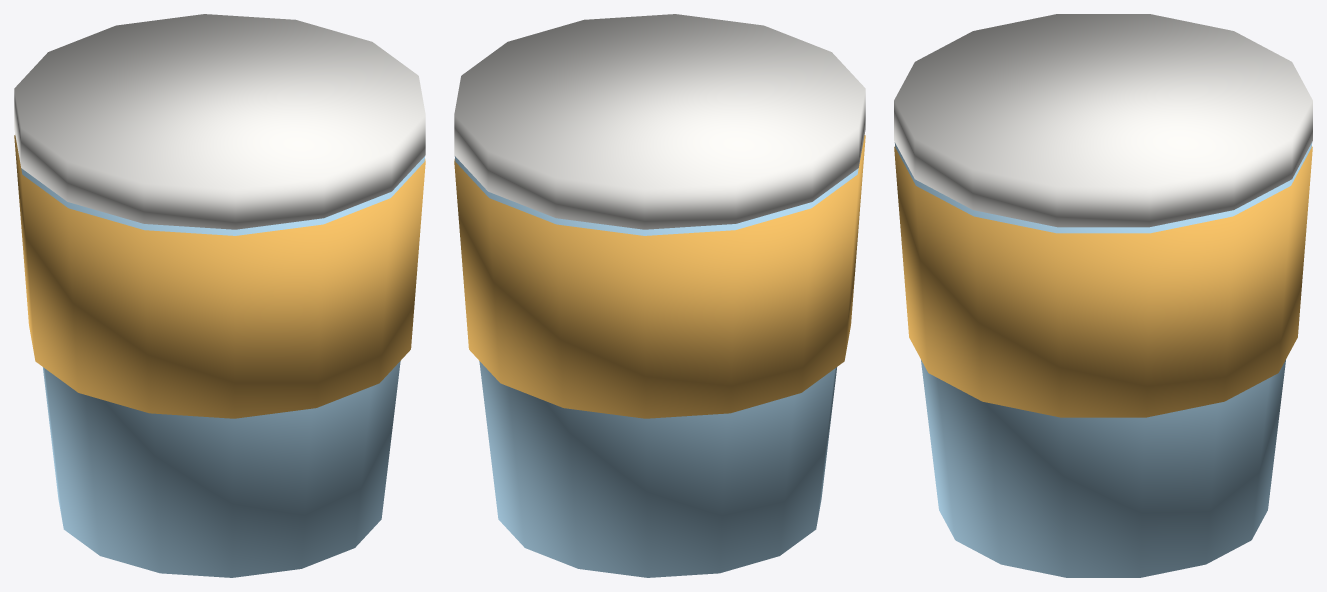
Rendered from Prop_TehTarik.fbx.
The picture shows the model from 3 angles, left to right: view 1: azimuth 30°, elevation 25°; view 2: azimuth 150°, elevation 25°; view 3: azimuth 270°, elevation 25°; orthographic projection.
Parts seen in each view (by area): view 1: Prop_TehTarik; view 2: Prop_TehTarik; view 3: Prop_TehTarik.
Part boxes in pixels (bbox=[...]): Prop_TehTarik: bbox=[14, 14, 425, 577]; Prop_TehTarik: bbox=[454, 14, 865, 577]; Prop_TehTarik: bbox=[894, 14, 1312, 577].
Size of the model in its own units: 0.546 by 0.605 by 0.56.
